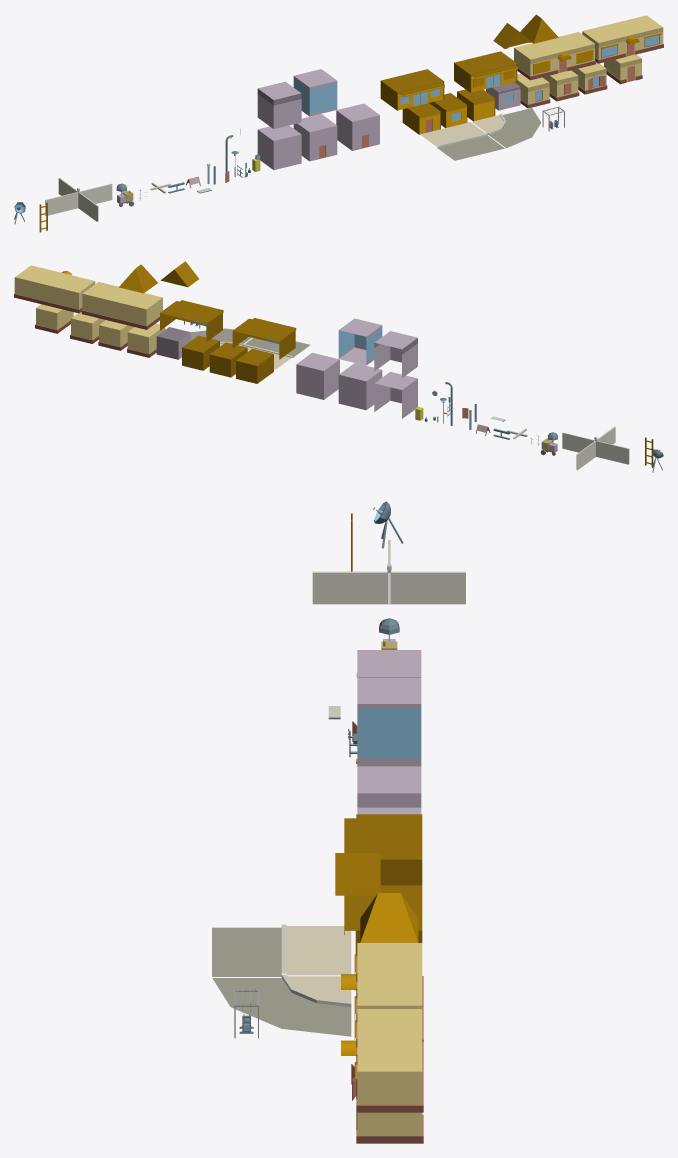
File: town_set.fbx
3 renders of one model, top to bottom at view 1: azimuth 30°, elevation 25°; view 2: azimuth 150°, elevation 25°; view 3: azimuth 270°, elevation 25°, orthographic. The views are drawn at different scales.
Visible parts, largest first — view 1: shop, road, shop_open_window, shop_closed_window, house_tech_04_wall1, house_tech_02_two_doors, house_tech_04_wall, house_tech_03_window, house_tech_01_one_door, wall_01, roof, house_yellow_with_one_door (+7 smaller); view 2: shop, house_tech_02_two_doors, house_tech_03_window, house_tech_01_one_door, wall_01, shop_open_window, house_tech_04_wall1, shop_closed_window, house_tech_04_wall, roof, road, house_yellow_with_one_door (+7 smaller); view 3: road, shop, house_tech_03_window, wall_01, roof, shop_open_window, house_tech_01_one_door, house_light_yellow_with_door2, house_tech_04_wall1, shop_closed_window.
Part boxes in pixels (x1=…): shop: x1=514, y1=15, x2=663, y2=80; road: x1=420, y1=108, x2=541, y2=160; shop_open_window: x1=380, y1=69, x2=444, y2=110; shop_closed_window: x1=454, y1=51, x2=517, y2=92; house_tech_04_wall1: x1=257, y1=81, x2=301, y2=128; house_tech_02_two_doors: x1=336, y1=103, x2=379, y2=150; house_tech_04_wall: x1=257, y1=125, x2=301, y2=169; house_tech_03_window: x1=293, y1=69, x2=337, y2=116; house_tech_01_one_door: x1=293, y1=114, x2=337, y2=161; wall_01: x1=45, y1=178, x2=112, y2=221; roof: x1=493, y1=14, x2=558, y2=48; house_yellow_with_one_door: x1=402, y1=103, x2=440, y2=134; shop: x1=14, y1=265, x2=162, y2=329; house_tech_02_two_doors: x1=296, y1=352, x2=339, y2=399; house_tech_03_window: x1=338, y1=318, x2=382, y2=365; house_tech_01_one_door: x1=338, y1=363, x2=382, y2=410; wall_01: x1=562, y1=426, x2=629, y2=470; shop_open_window: x1=232, y1=318, x2=296, y2=359; house_tech_04_wall1: x1=374, y1=331, x2=417, y2=377; shop_closed_window: x1=160, y1=300, x2=223, y2=341; house_tech_04_wall: x1=374, y1=372, x2=417, y2=418; roof: x1=119, y1=261, x2=198, y2=293; road: x1=191, y1=328, x2=309, y2=369; house_yellow_with_one_door: x1=236, y1=348, x2=273, y2=383; road: x1=212, y1=924, x2=351, y2=1036; shop: x1=341, y1=943, x2=423, y2=1112; house_tech_03_window: x1=357, y1=677, x2=421, y2=761; wall_01: x1=312, y1=540, x2=465, y2=604; roof: x1=335, y1=853, x2=418, y2=942; shop_open_window: x1=344, y1=814, x2=422, y2=885; house_tech_01_one_door: x1=357, y1=766, x2=421, y2=807; house_light_yellow_with_door2: x1=356, y1=1112, x2=423, y2=1143; house_tech_04_wall1: x1=357, y1=650, x2=421, y2=677; shop_closed_window: x1=344, y1=885, x2=422, y2=956.
Bounding box in the file's own units: 125 × 17.06 × 21.47.
